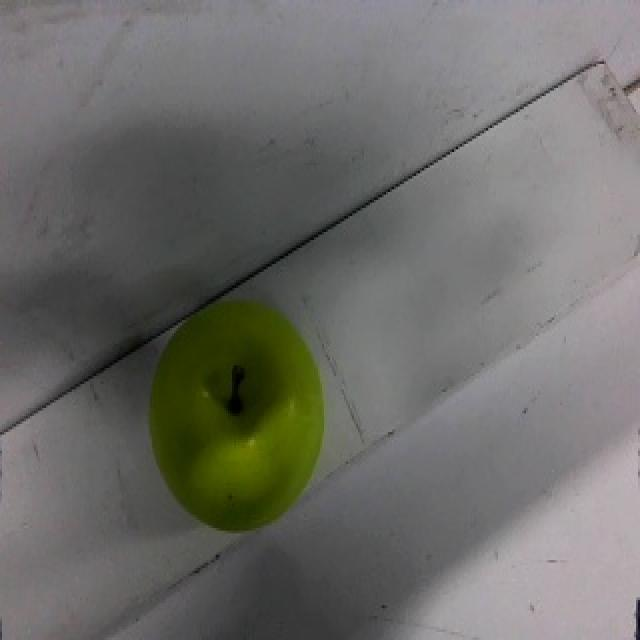apple: (145, 294, 326, 532)
